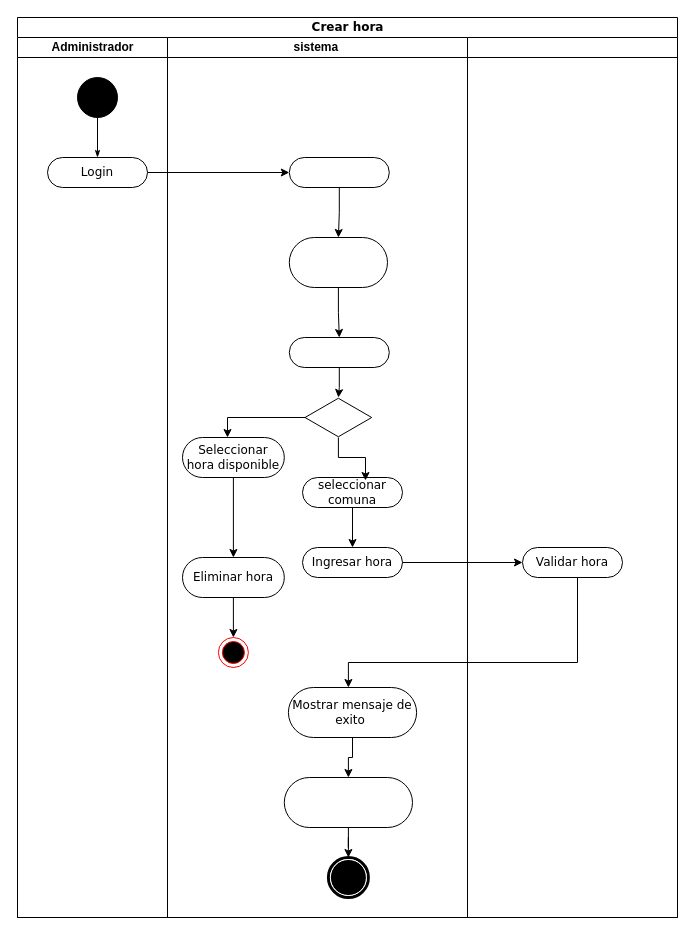
Some shapes in this 695 by 935 pixel diagram are drawn without their labels. The box of each missing label's shape, as (x1, y1, x2, y2) in pixels:
BBDD: (466, 36, 678, 918)
Crear hora de cita: (283, 776, 412, 828)
Menú de administración de horas: (288, 236, 388, 288)
Validar usuario: (288, 156, 389, 188)
Ver horas disponibles: (288, 336, 389, 368)
